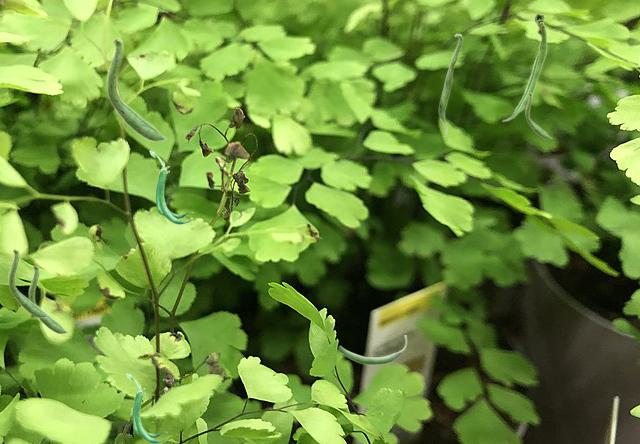french_bean: (106, 37, 166, 141), (501, 12, 546, 121), (149, 150, 193, 223), (126, 373, 167, 442), (28, 264, 67, 333), (8, 248, 47, 317), (438, 33, 462, 133), (338, 335, 406, 364), (525, 92, 551, 138)
